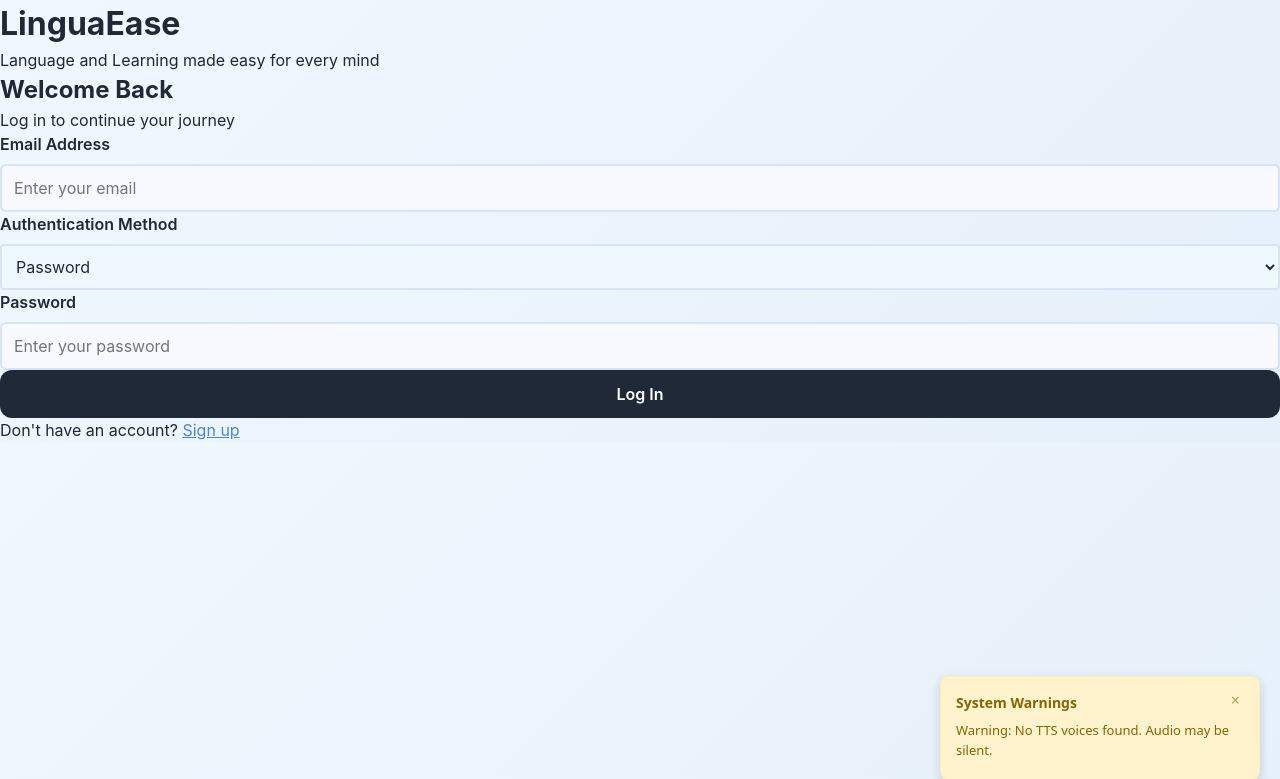
Test: Core E2E Flows - Accessible Language Learning Platform › Public Routes - Authentication › E2E-TC-002: Navigate to Register page
The image size is (1280, 779).
Click the link "Sign up" at (212,430), box [183,420,240,440]
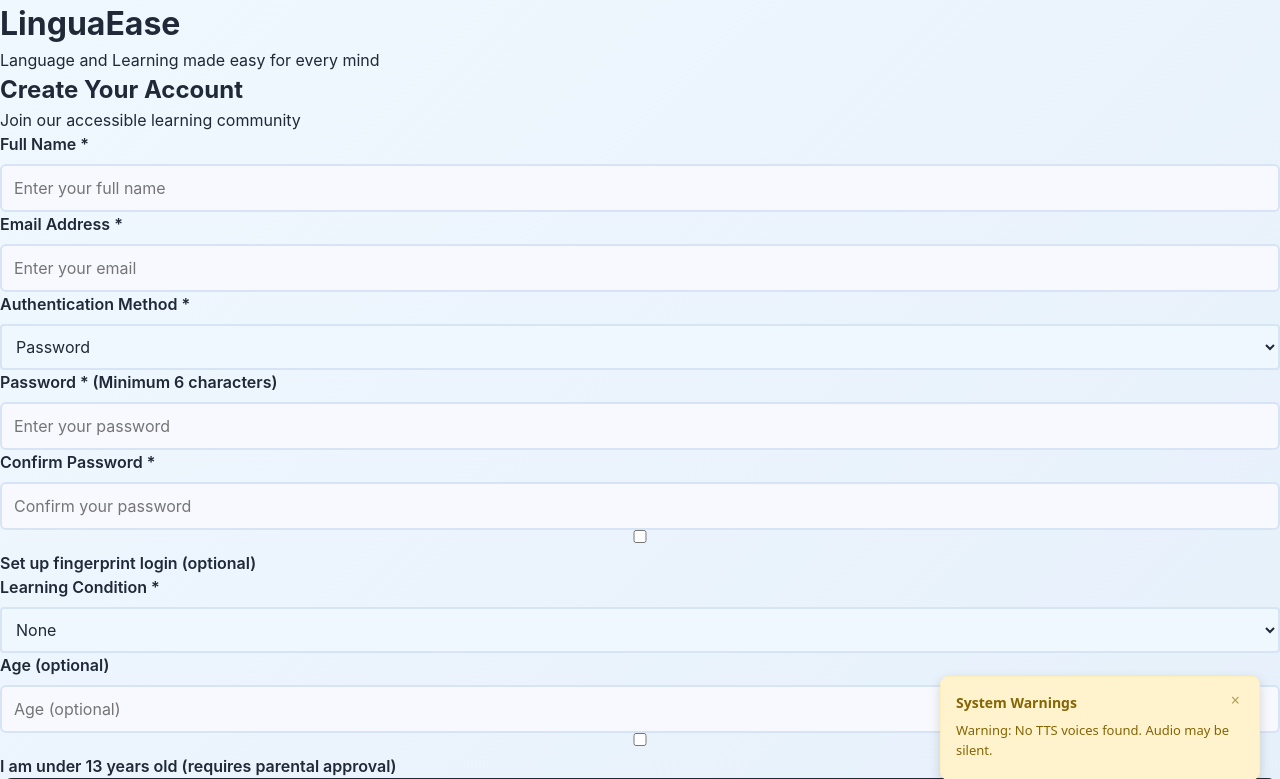
Now the field named "name" is shown, box [0,164,1279,212]
